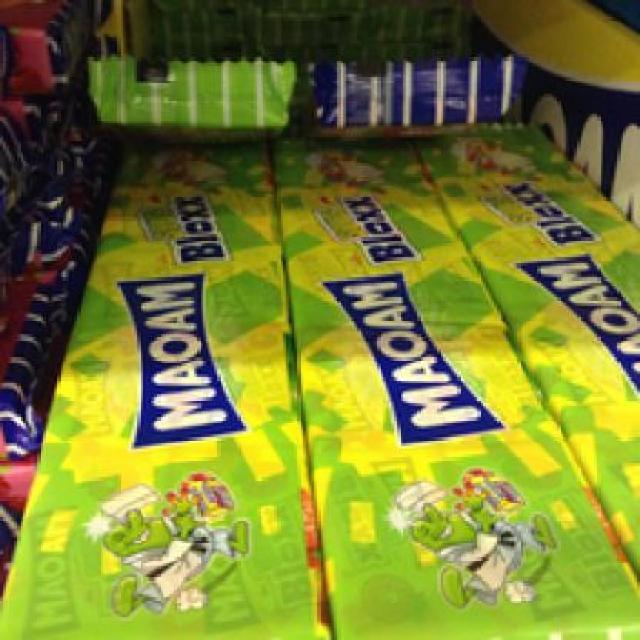Candy: (37, 125, 303, 638), (277, 134, 534, 637), (452, 114, 638, 566)
